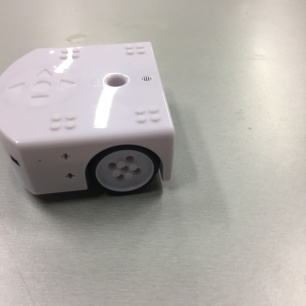thymio: (1, 38, 183, 199)
